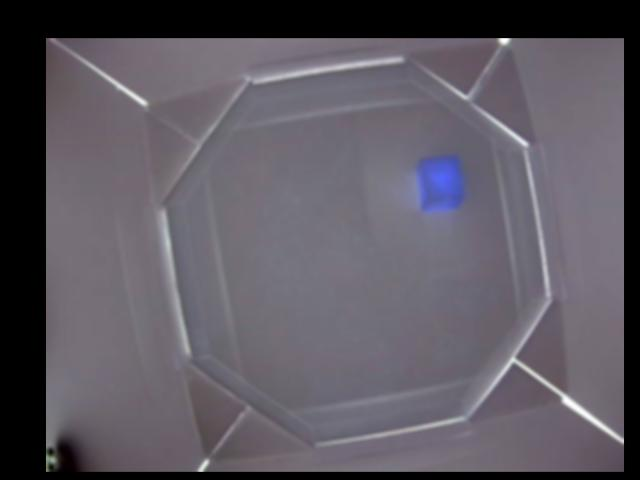Potato: (416, 159, 462, 213)
